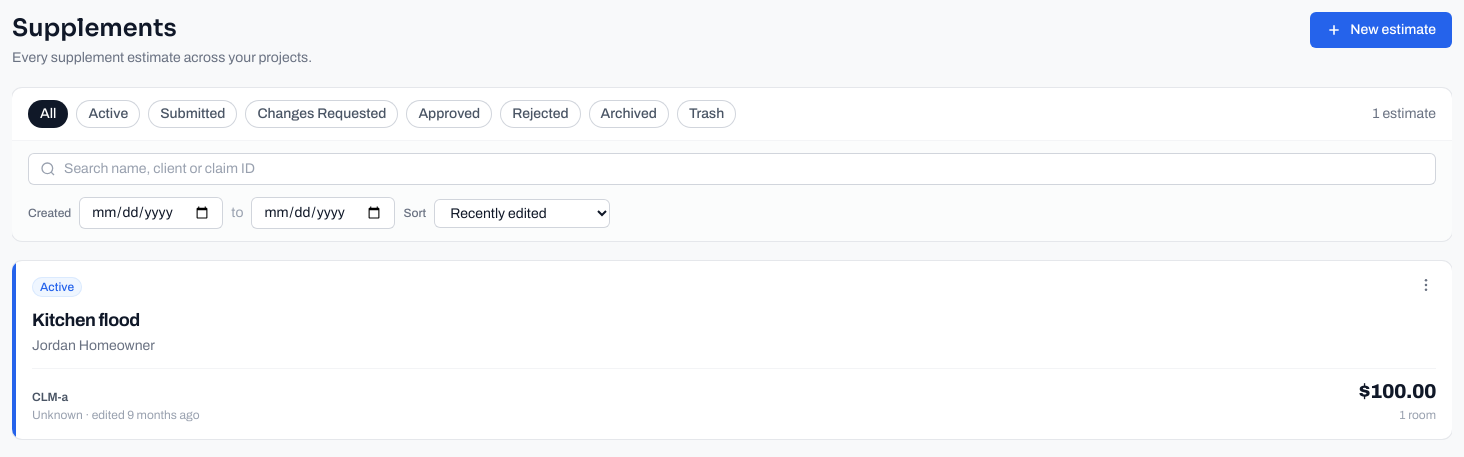
Test: EstimatesListPage › empty and error states › says so when a search matches nothing
expect the text "Kitchen flood" is shown: met, box [32,310,140,330]
In the search field named "Search estimates": x=732, y=169 [28,153,1436,185], type "zzzz"
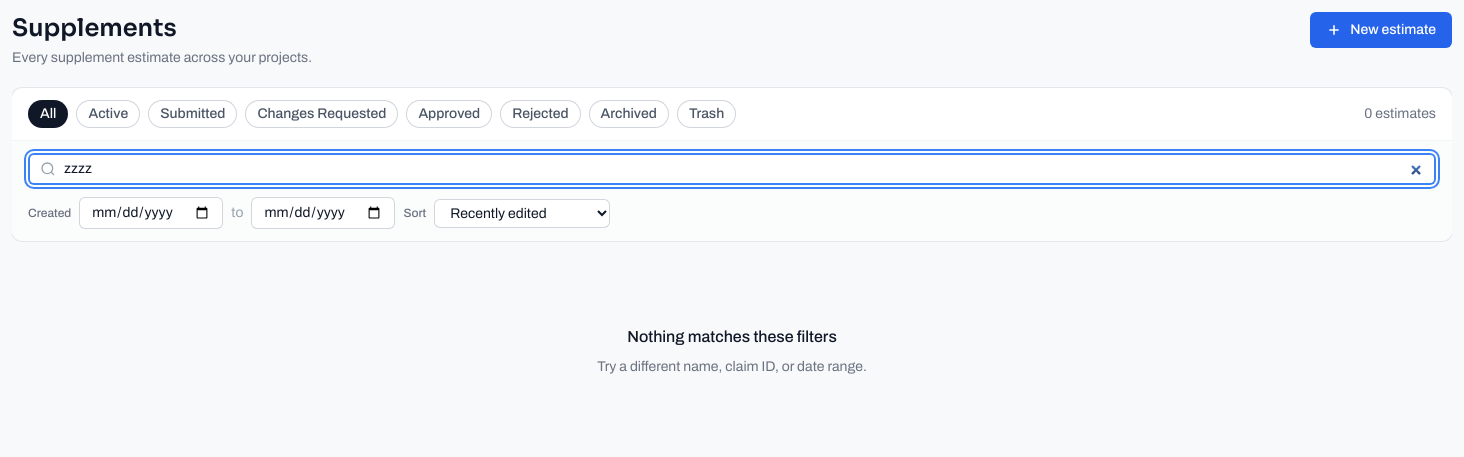
expect the text "Nothing matches these filters" is shown: met, box [627,325,837,349]
